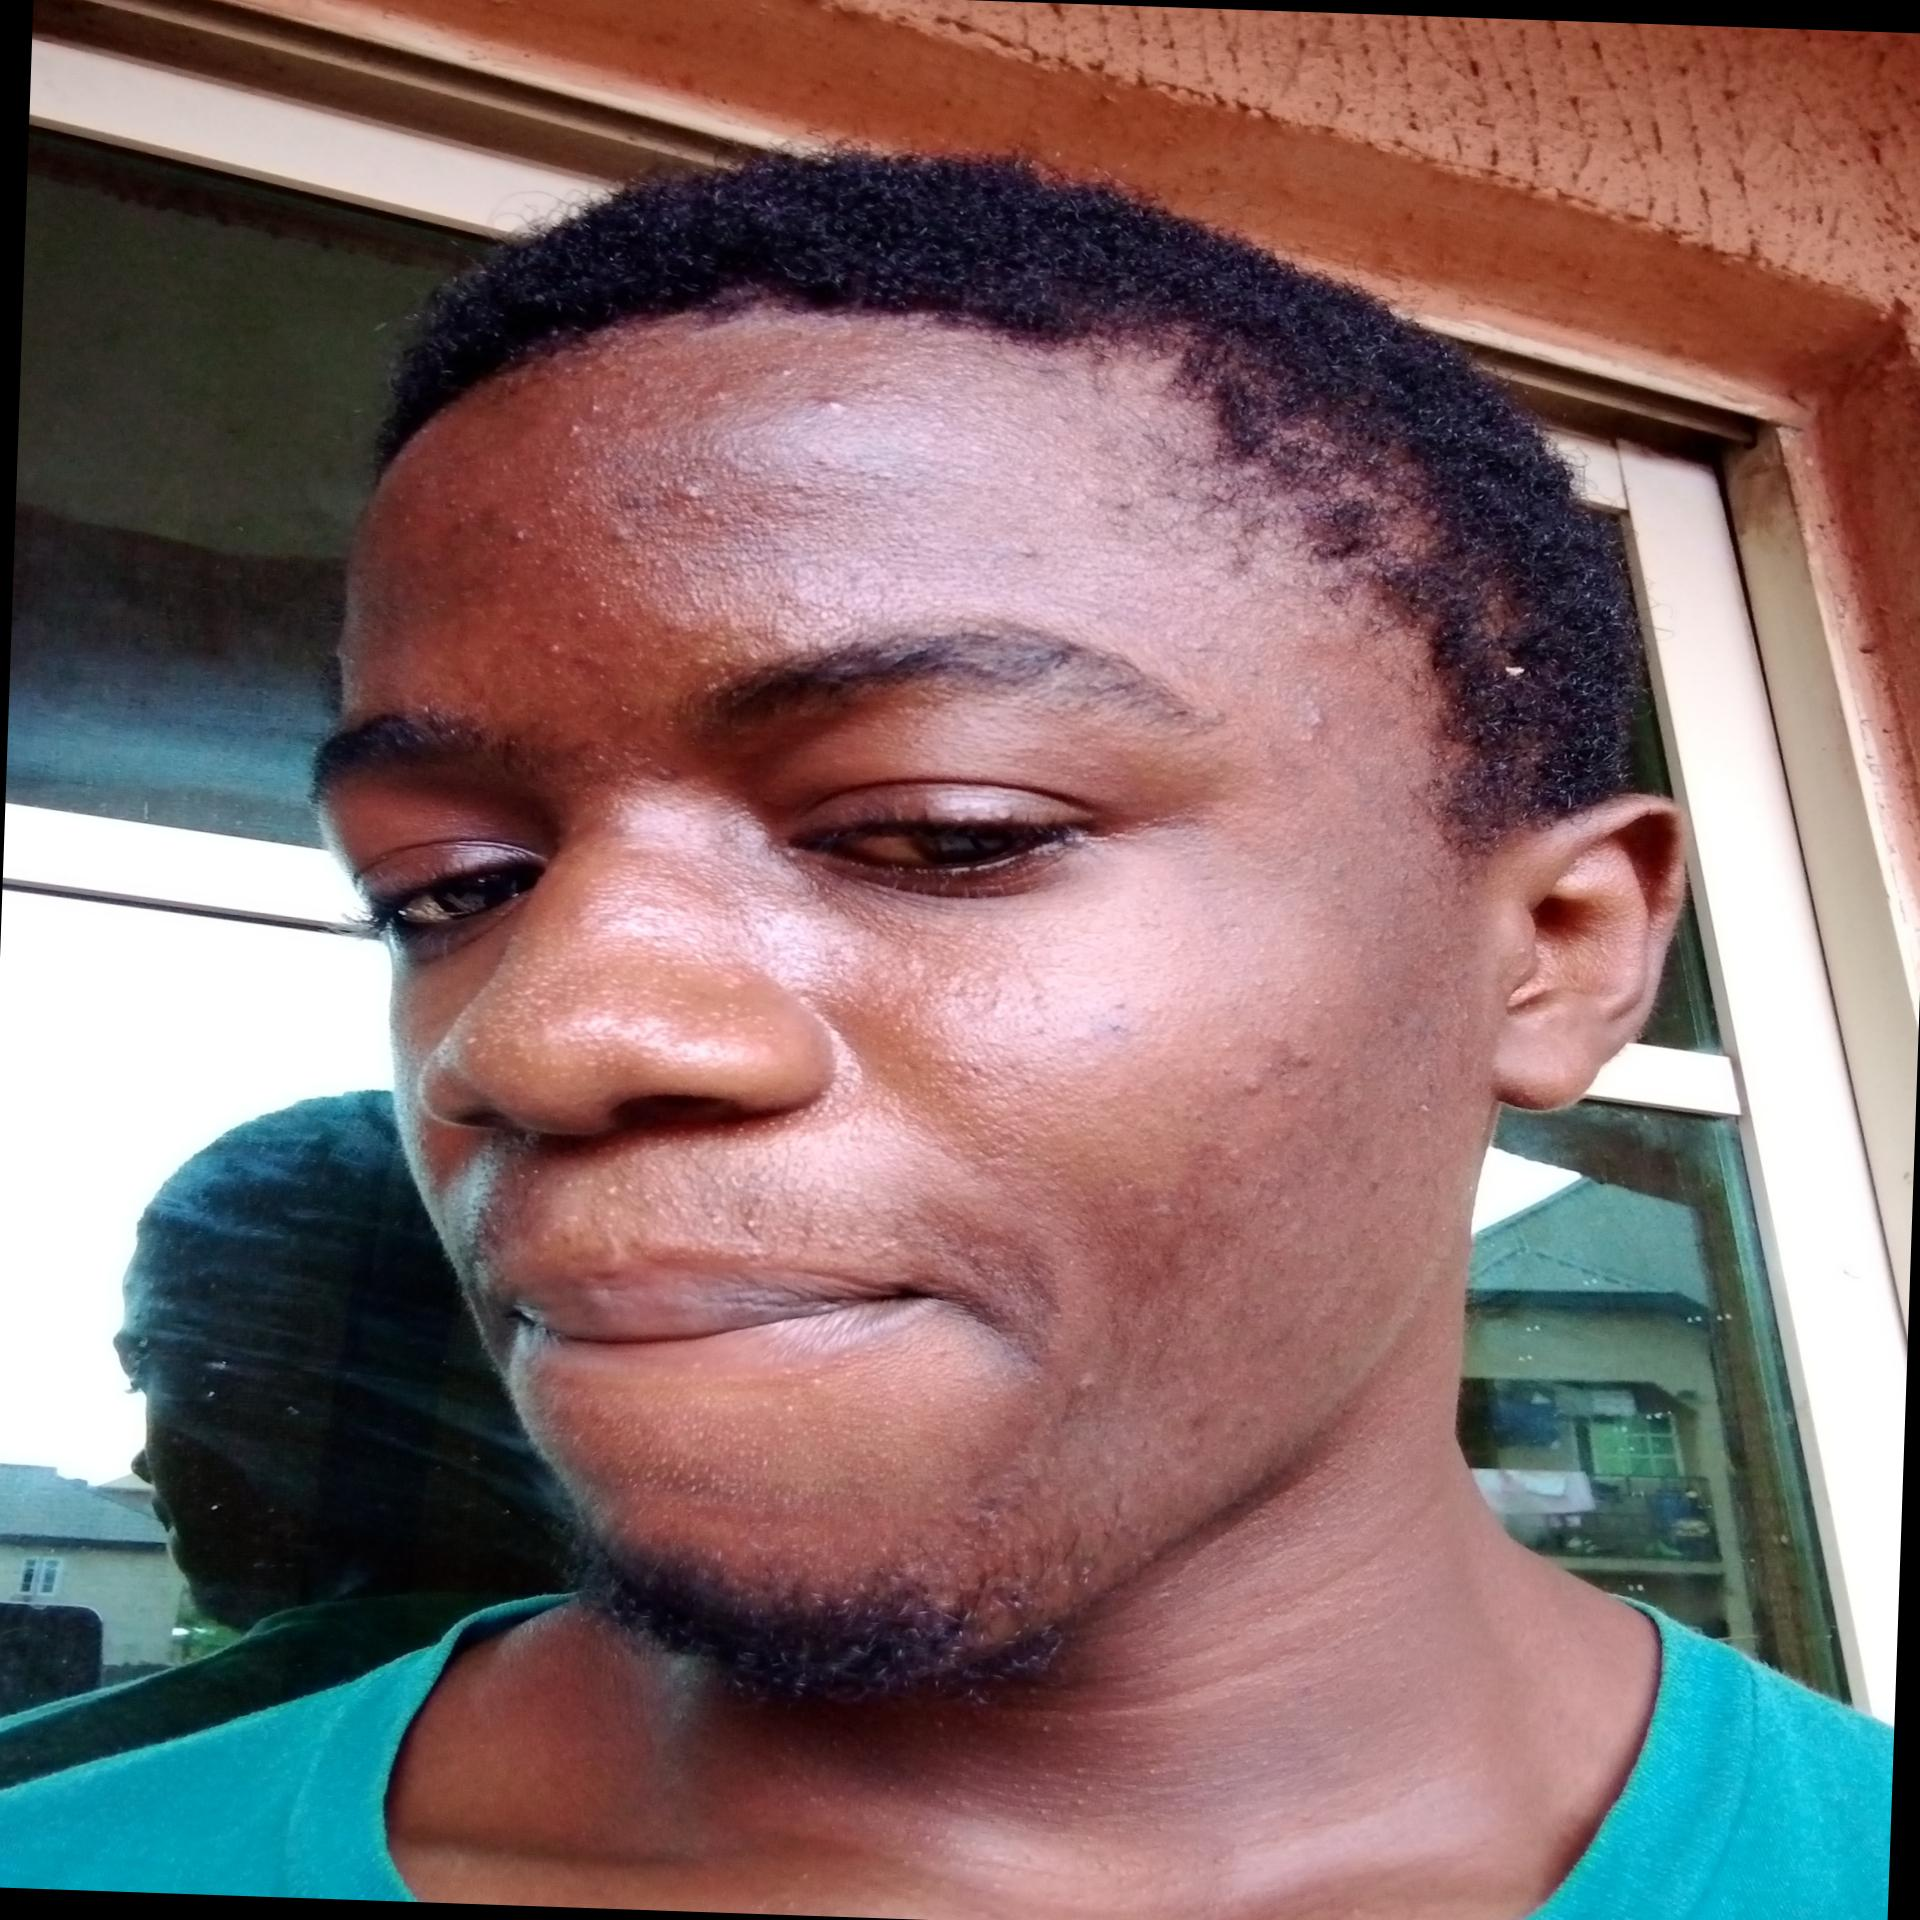Acne: (907, 969, 1032, 1004), (832, 934, 884, 986), (535, 466, 584, 519), (805, 452, 895, 480), (443, 478, 482, 533), (1287, 696, 1326, 745), (566, 596, 614, 628), (622, 487, 670, 515), (877, 376, 914, 408), (696, 503, 737, 529), (1396, 1097, 1429, 1129), (1231, 1074, 1264, 1104), (675, 478, 709, 506), (702, 380, 737, 406), (680, 649, 717, 673), (608, 517, 636, 549), (617, 552, 666, 570), (1069, 1373, 1099, 1401), (1375, 1007, 1401, 1039), (1071, 489, 1106, 512), (1006, 540, 1036, 564), (642, 519, 679, 538), (1018, 468, 1051, 489), (538, 638, 564, 665), (1284, 1046, 1313, 1069), (656, 471, 689, 491), (819, 392, 847, 413), (506, 524, 529, 547), (582, 396, 607, 417), (563, 420, 584, 441), (774, 362, 796, 382), (1220, 1146, 1241, 1166), (1285, 1080, 1301, 1099)
Englarged Pores: (624, 471, 890, 552)
